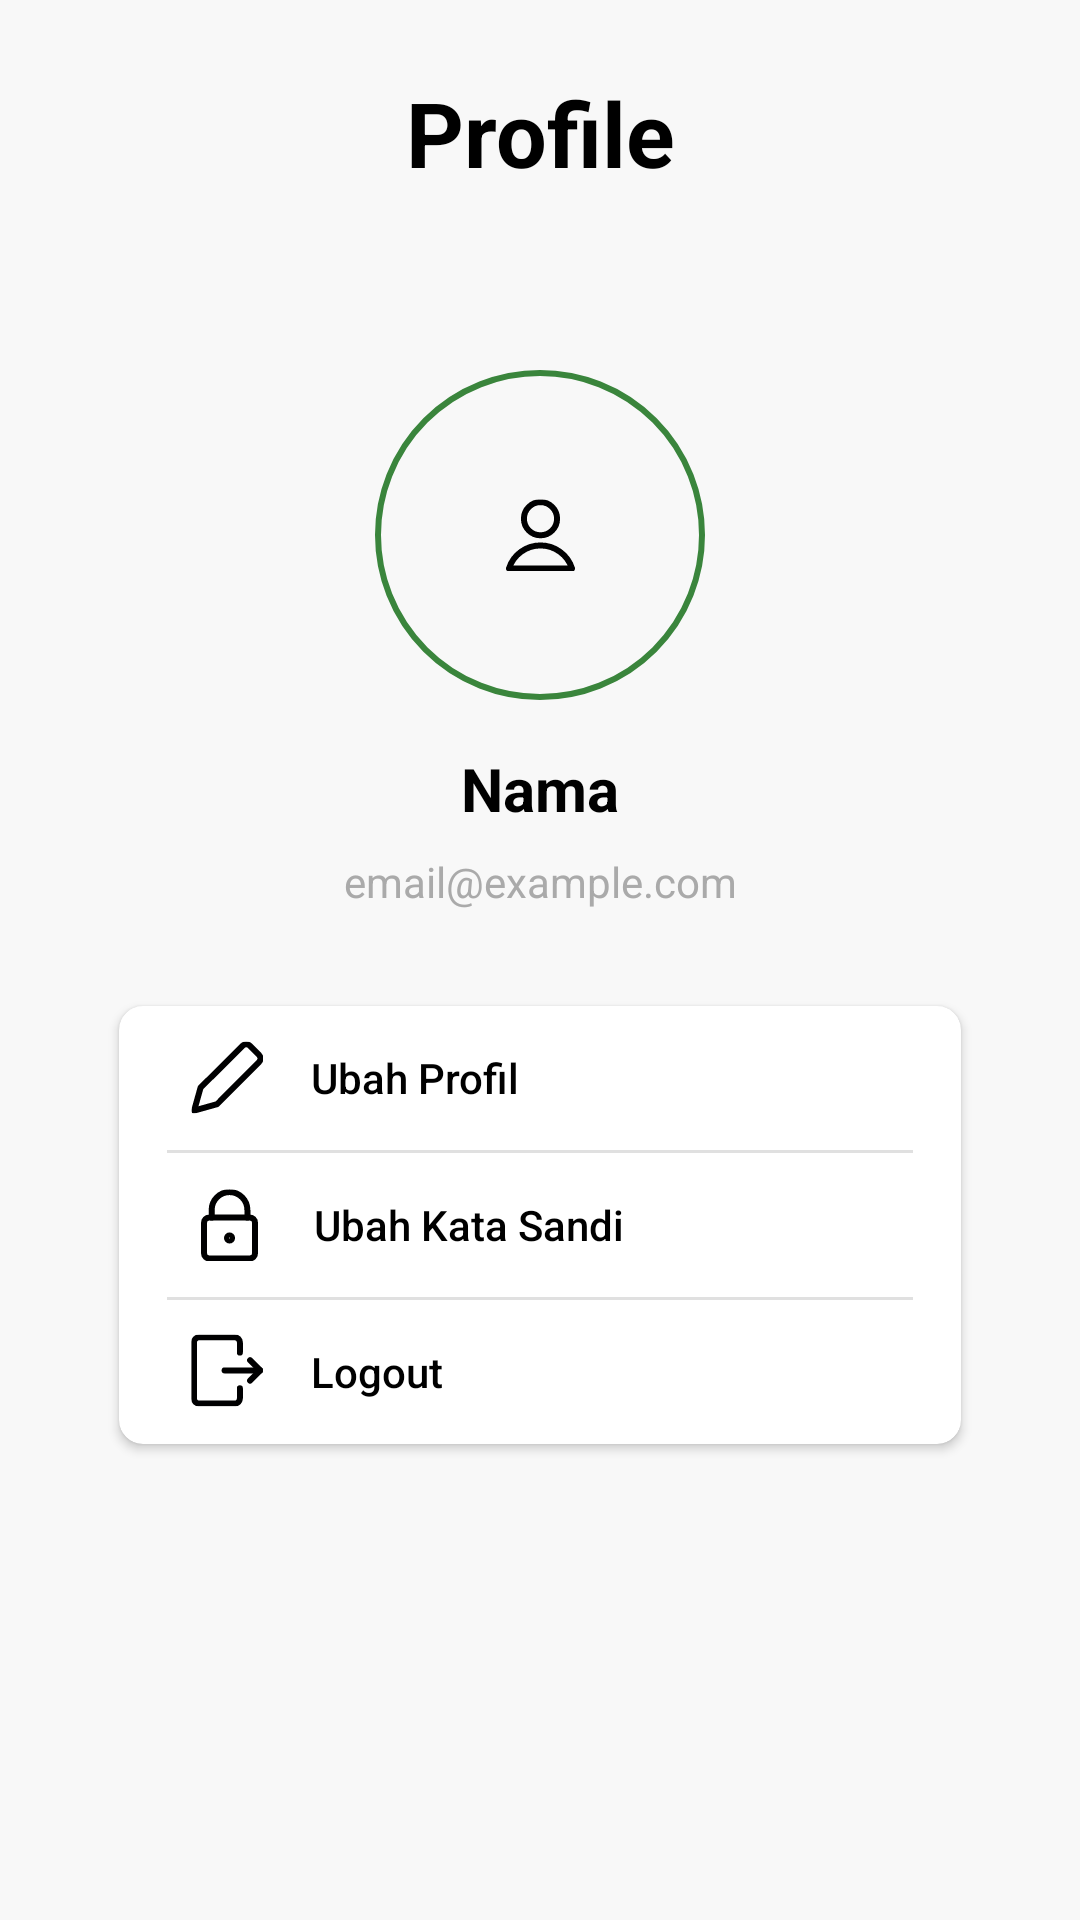

Screen size 1080w x 1920h. Icon name, then its box in pixels as (x1, y1, x2, y2):
User avatar: (390, 385, 690, 685)
